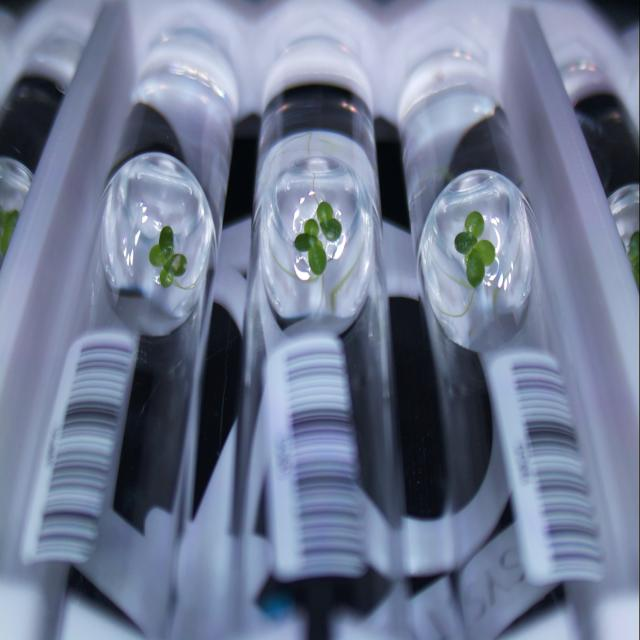Lemna-Gibba: (455, 210, 495, 287), (149, 225, 188, 287), (295, 218, 326, 275), (316, 202, 341, 241)
